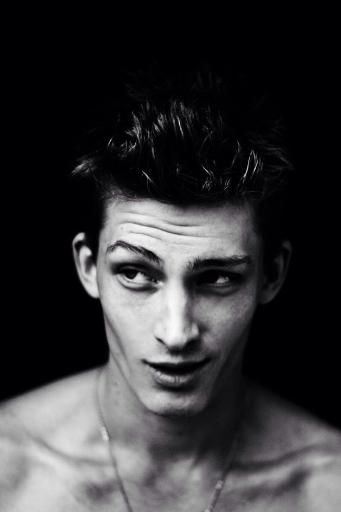left_eye: (195, 268, 245, 294)
left_lip_corner: (202, 353, 216, 374)
right_eye: (116, 264, 159, 292)
right_lip_corner: (136, 352, 156, 376)
